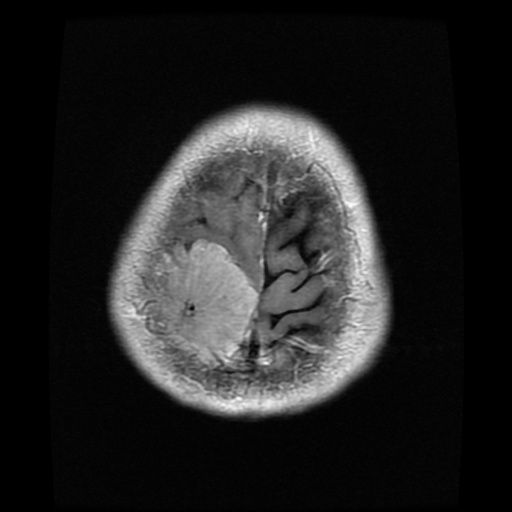meningioma: (151, 239, 257, 367)
